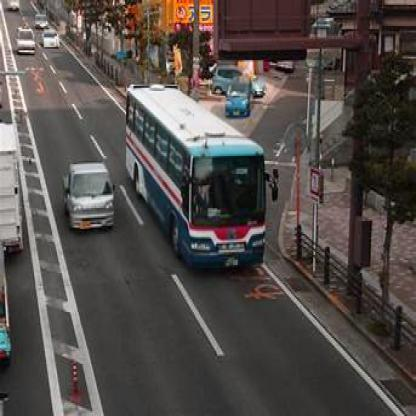bus: (127, 86, 266, 271)
car: (65, 157, 116, 233), (215, 61, 267, 94), (227, 79, 249, 118), (16, 30, 34, 53), (45, 27, 57, 50), (36, 16, 48, 27)
